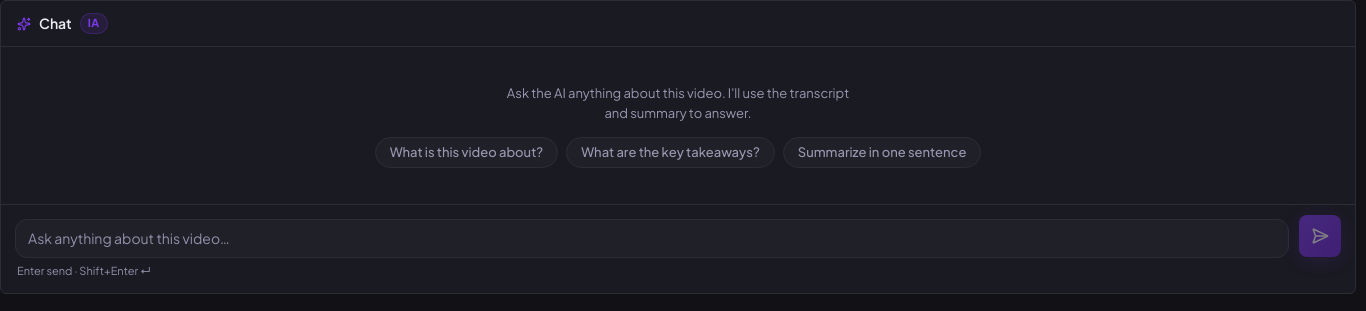
it: ChatSection › disables textarea and send button while loading
Type "Question?" into the text box at (652, 238), box [15,219,1289,258]
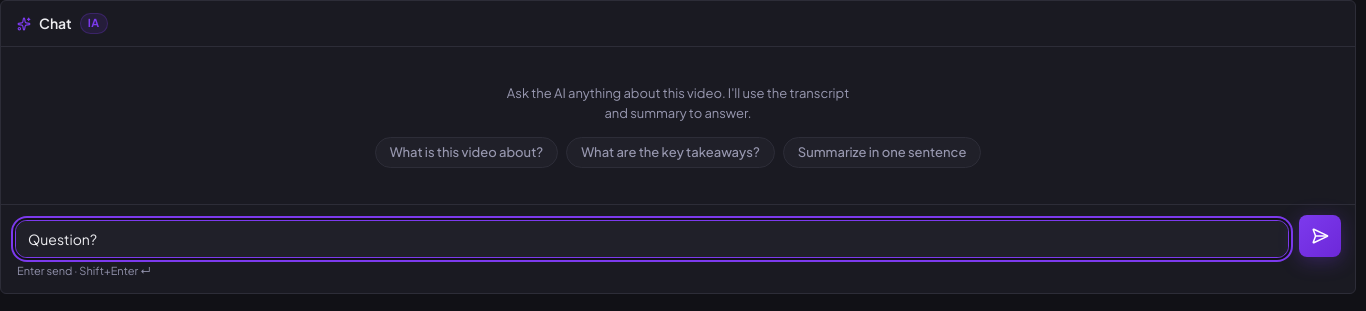
Click the button named "Send" at (1320, 236), box [1299,215,1341,257]
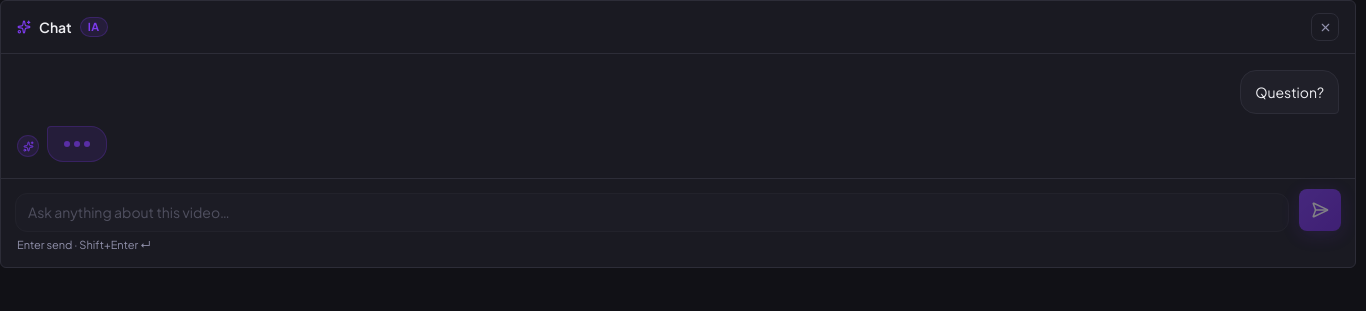
Expected: the text box is disabled, [15,193,1289,232]
Expected: the button named "Send" is disabled, [1299,189,1341,231]
